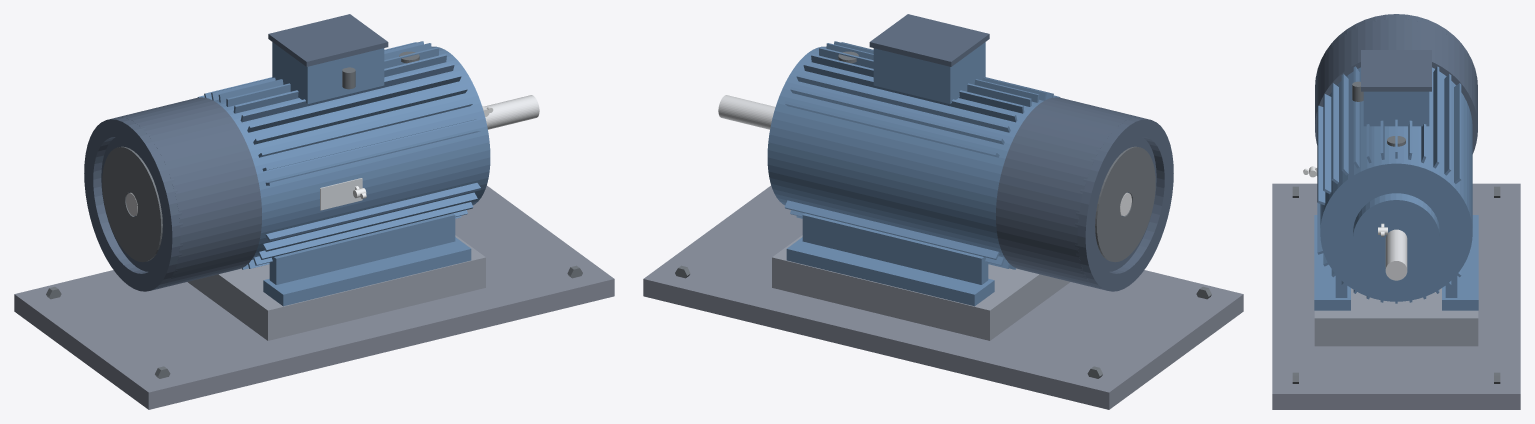
Rendered from motor.glb.
3 views of the same model, side by side, from view 1: azimuth 30°, elevation 25°; view 2: azimuth 150°, elevation 25°; view 3: azimuth 270°, elevation 25° (orthographic). The views are drawn at different scales.
Parts seen in each view (by area): view 1: PART_001, CASING_MOTORBODY_006, CASING_FINS_009, CASING_COWL_010, PART_022, CASING_COWL_011, PART_021, PART_012, PART_020, CASING_TERMBOX_013, PART_014, PART_023 (+2 smaller); view 2: PART_001, CASING_MOTORBODY_006, CASING_COWL_010, CASING_FINS_009, PART_022, CASING_COWL_011, PART_019, PART_012, PART_018, CASING_TERMBOX_013, PART_014, CASING_ENDBELL_007 (+1 smaller); view 3: PART_001, CASING_ENDBELL_007, PART_022, CASING_FINS_009, CASING_COWL_010, CASING_MOTORBODY_006, CASING_ENDBELL_008, PART_014, CASING_TERMBOX_013, PART_018, PART_020, PART_023 (+1 smaller).
Part boxes in pixels (bbox=[...]): PART_001: bbox=[14, 185, 614, 409]; CASING_MOTORBODY_006: bbox=[214, 47, 488, 259]; CASING_FINS_009: bbox=[198, 41, 480, 269]; CASING_COWL_010: bbox=[101, 97, 261, 288]; PART_022: bbox=[188, 235, 485, 340]; CASING_COWL_011: bbox=[84, 117, 182, 291]; PART_021: bbox=[269, 213, 455, 284]; PART_012: bbox=[102, 146, 162, 262]; PART_020: bbox=[263, 237, 471, 306]; CASING_TERMBOX_013: bbox=[272, 42, 384, 103]; PART_014: bbox=[268, 14, 388, 66]; PART_023: bbox=[126, 95, 539, 215]; PART_001: bbox=[643, 185, 1243, 409]; CASING_MOTORBODY_006: bbox=[769, 47, 1043, 259]; CASING_COWL_010: bbox=[996, 97, 1156, 288]; CASING_FINS_009: bbox=[784, 41, 1059, 269]; PART_022: bbox=[772, 235, 1069, 340]; CASING_COWL_011: bbox=[1075, 117, 1173, 291]; PART_019: bbox=[802, 213, 988, 284]; PART_012: bbox=[1095, 146, 1155, 262]; PART_018: bbox=[786, 237, 994, 306]; CASING_TERMBOX_013: bbox=[873, 42, 985, 103]; PART_014: bbox=[869, 14, 989, 66]; CASING_ENDBELL_007: bbox=[767, 46, 826, 205]; PART_001: bbox=[1272, 183, 1520, 409]; CASING_ENDBELL_007: bbox=[1320, 156, 1472, 301]; PART_022: bbox=[1314, 288, 1478, 346]; CASING_FINS_009: bbox=[1317, 66, 1461, 303]; CASING_COWL_010: bbox=[1315, 17, 1477, 153]; CASING_MOTORBODY_006: bbox=[1320, 67, 1472, 226]; CASING_ENDBELL_008: bbox=[1353, 193, 1439, 278]; PART_014: bbox=[1361, 50, 1431, 91]; CASING_TERMBOX_013: bbox=[1363, 91, 1429, 126]; PART_018: bbox=[1442, 215, 1478, 310]; PART_020: bbox=[1314, 215, 1350, 310]; PART_023: bbox=[1385, 230, 1407, 280].
Bounding box in the file's own units: 2.1 × 1.13 × 1.05.
